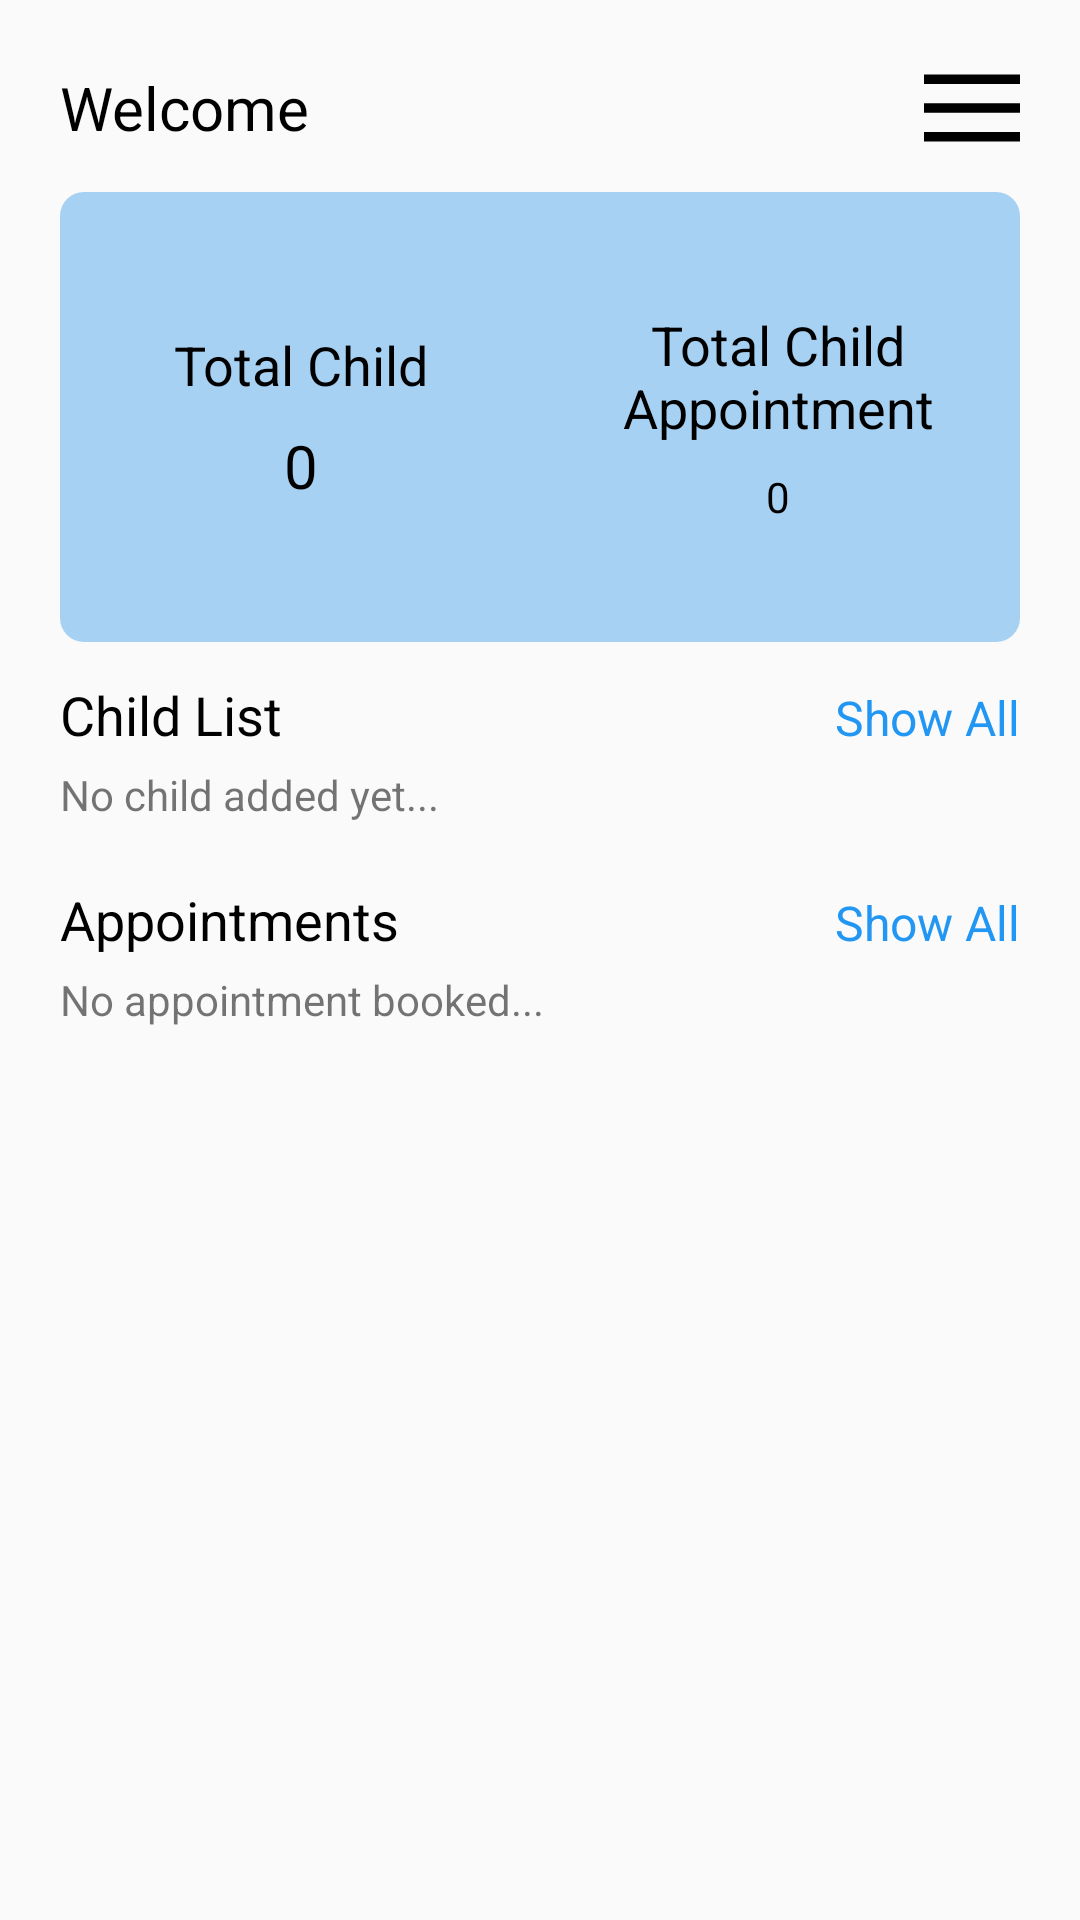

Named icons in this screenshot (1080px x 1920px) and their centers, [x,y]:
menu: [972,108]
